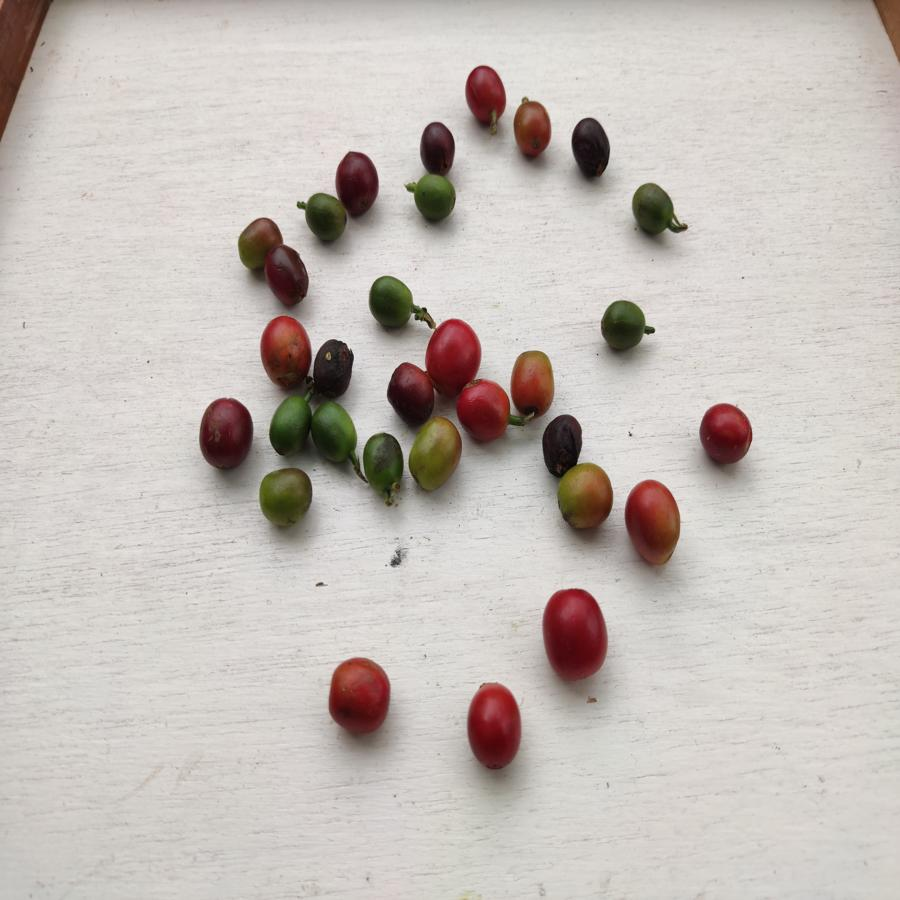Inmaduro: (311, 399, 361, 468), (627, 181, 678, 242), (362, 277, 418, 331), (362, 432, 404, 503), (268, 394, 312, 460), (598, 300, 648, 354), (408, 174, 457, 223), (301, 193, 344, 244)
Maduro: (541, 588, 613, 681), (626, 474, 683, 568), (327, 658, 394, 737), (467, 677, 521, 774), (258, 313, 313, 390), (698, 400, 758, 465), (427, 318, 481, 389), (456, 377, 510, 443), (464, 65, 507, 128)
Pinton: (409, 417, 464, 497), (557, 463, 613, 536), (256, 468, 318, 530), (511, 346, 555, 418), (512, 98, 553, 158), (232, 217, 277, 264)
Sobremaduro: (198, 396, 255, 473), (384, 358, 434, 423), (266, 244, 310, 308), (338, 150, 380, 215), (312, 337, 356, 398), (573, 117, 615, 179), (542, 413, 582, 473), (418, 121, 458, 173)
